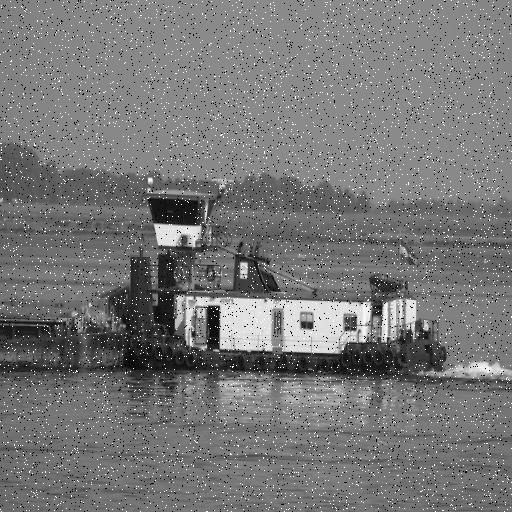tugboat: (107, 177, 452, 384)
